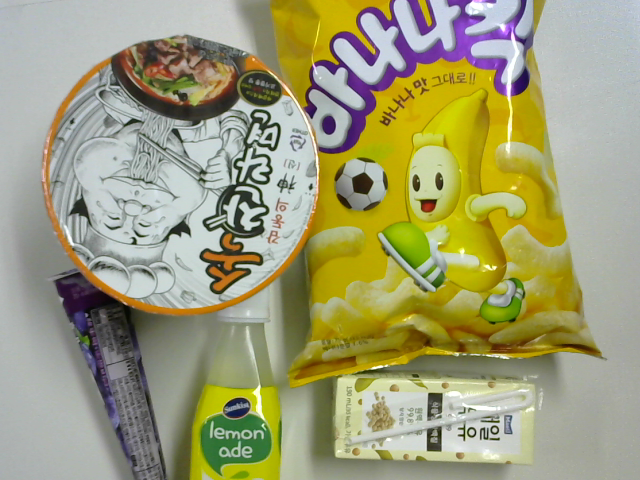99.89_Soymilk: (333, 370, 541, 468)
Banana_Kick: (271, 2, 601, 368)
Hejangchan: (39, 36, 313, 312)
Polapo_Grape: (45, 264, 177, 480)
Sunkist_Lemonaid_Pet: (187, 300, 283, 480)
